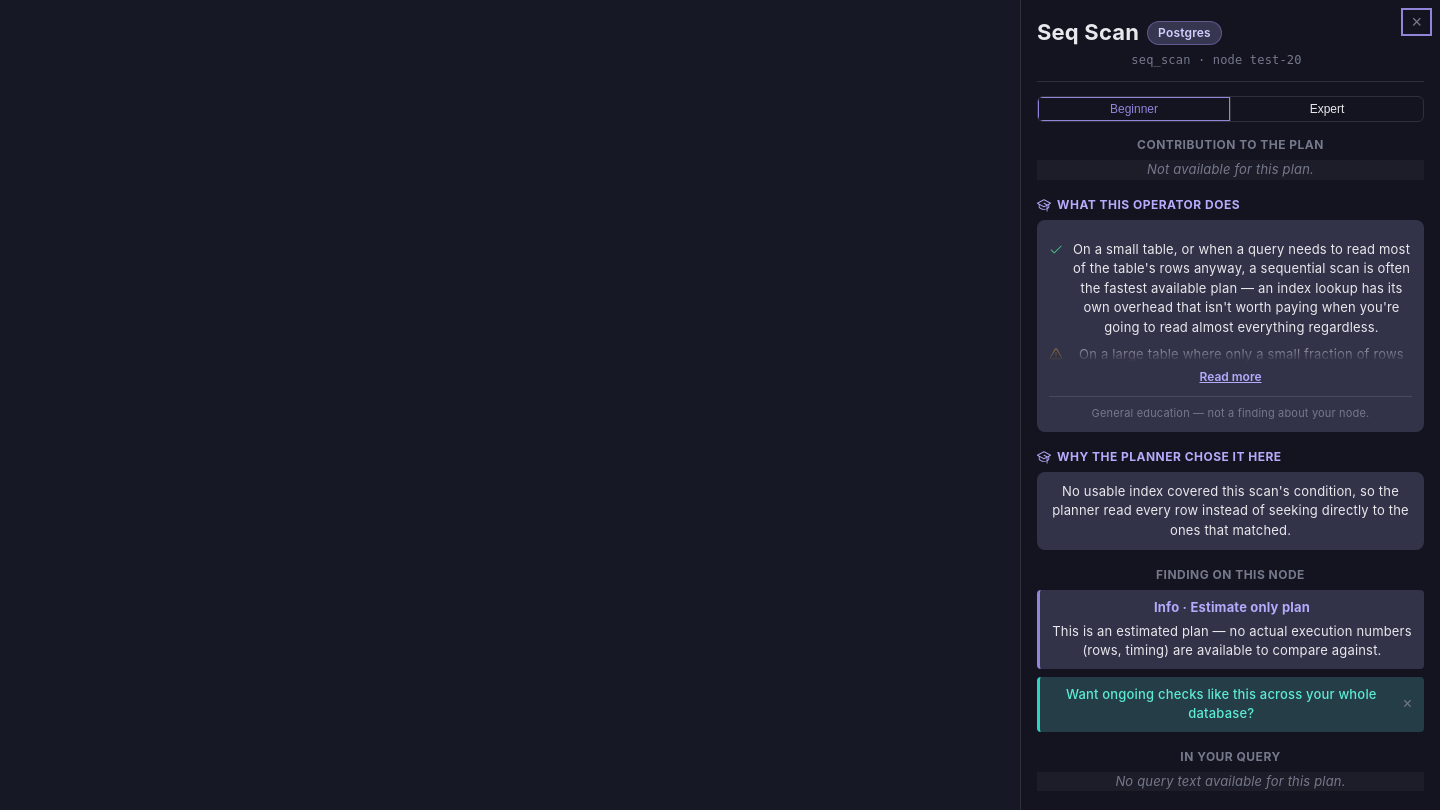
Scenario: DetailPanel › Episode 18, Story 18.7 — Beginner/Expert densities (spec §5 1f) › Expert collapses education to a single disclosure line, closed by default, expanding to the short definition on click — never the fine/look-closer bullets
What coordinates should you click on to do the following:
click the button "Expert"
I would click on:
 (1326, 109)
Its box is [1230,97,1423,121].
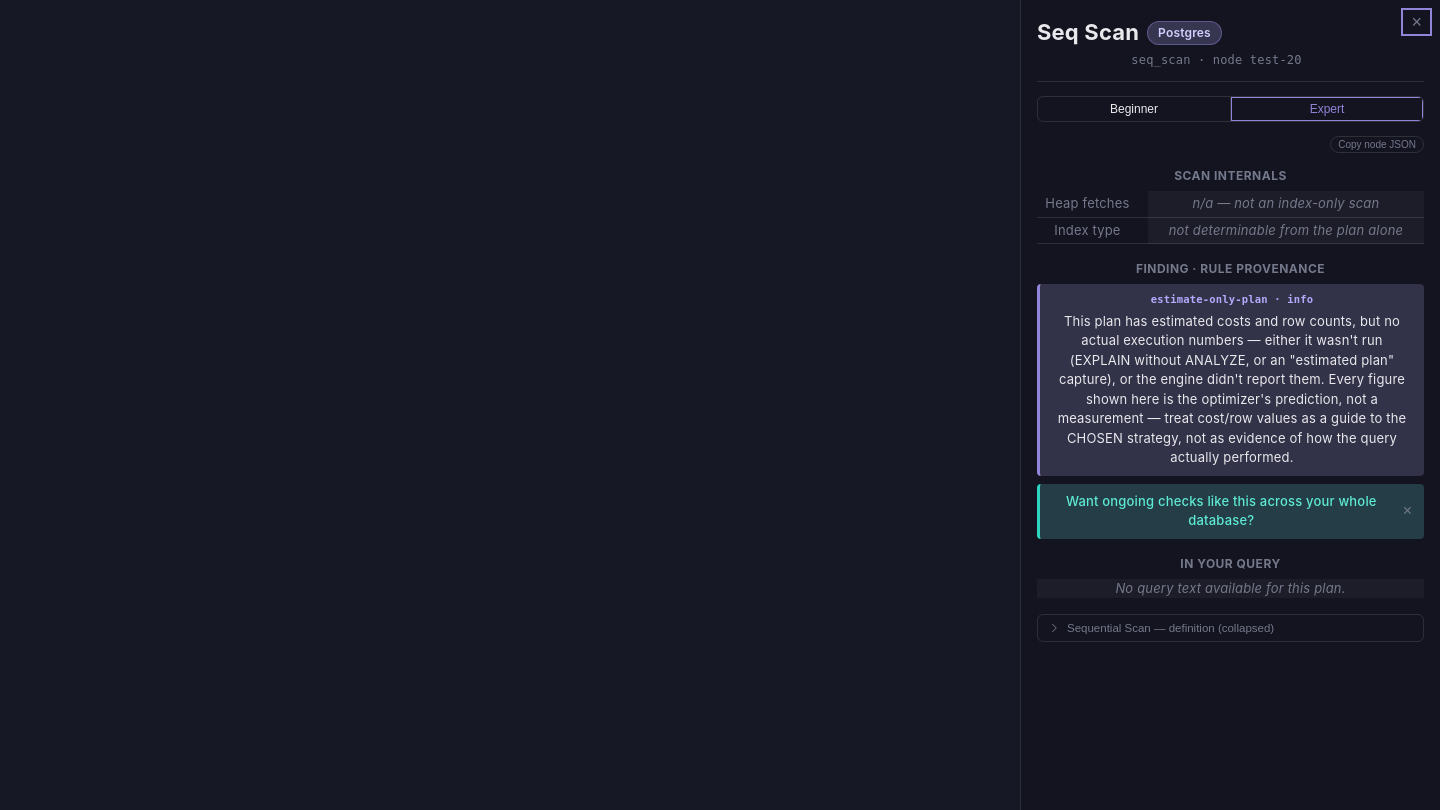
Check: the text "Reads every row in a table" is not shown
Check: the text "Sequential Scan — definition (collapsed)" is shown, box [1067,622,1274,634]
What coordinates should you click on to do the following:
click the button "Sequential Scan — definition (collapsed)"
I would click on:
 (1230, 628)
Its box is [1037,614,1424,642].
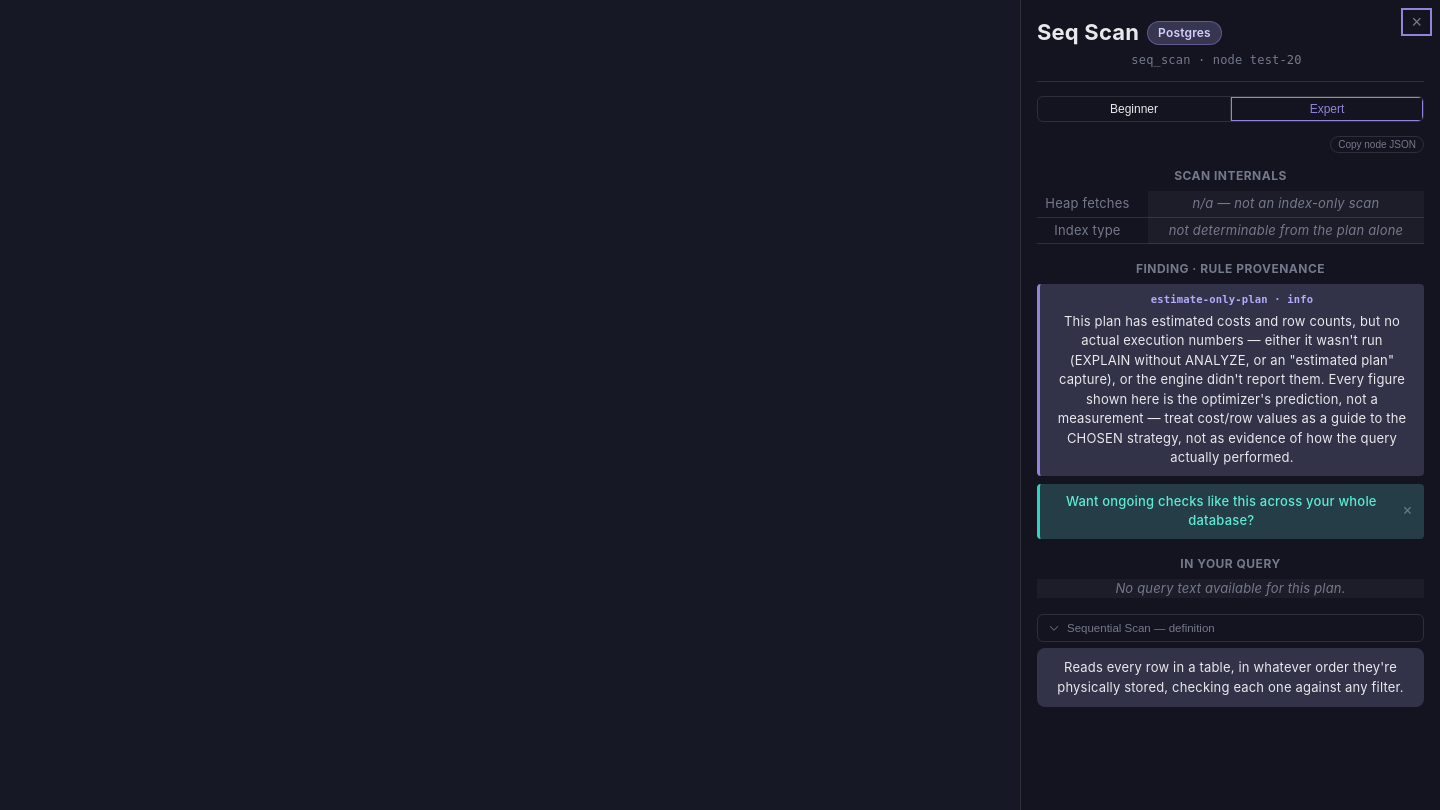
Check: the text "also called a table scan or full scan" is not shown
Check: the text "Reads every row in a table" is shown, box [1057,659,1404,695]
